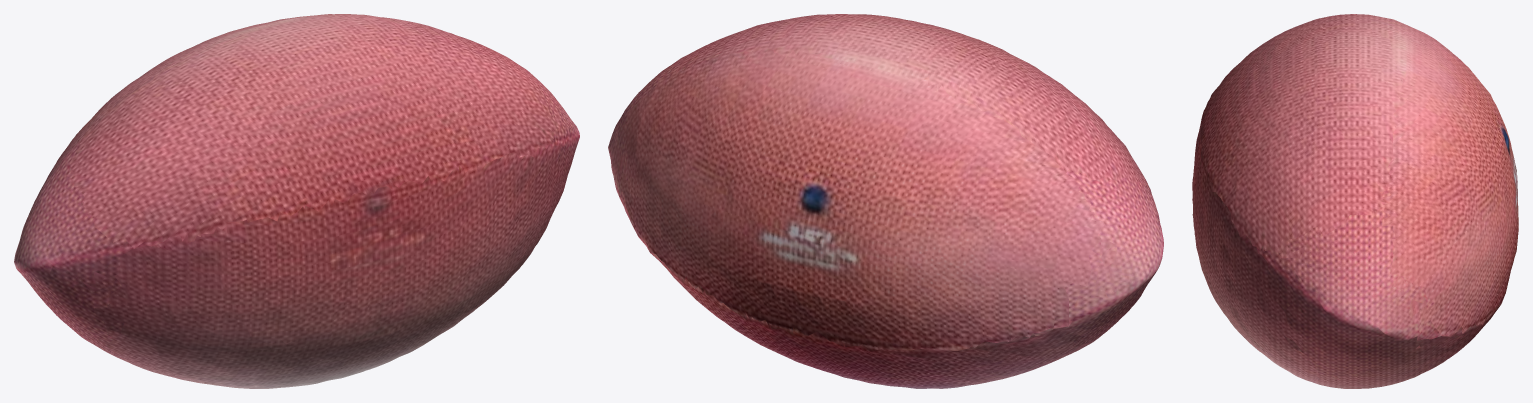
File: tmpruv7kg6d.glb
The picture shows the model from 3 angles, left to right: view 1: azimuth 30°, elevation 25°; view 2: azimuth 150°, elevation 25°; view 3: azimuth 270°, elevation 25°; orthographic projection. The views are drawn at different scales.
Visible parts, largest first — view 1: world; view 2: world; view 3: world.
Part boxes in pixels (box(x1,y1,x2,y2)): world: box(14, 14, 579, 388); world: box(608, 14, 1163, 388); world: box(1192, 14, 1518, 388).
Size of the model in its own units: 0.9491 by 0.5529 by 0.5322.
1 material, 1 textured.
